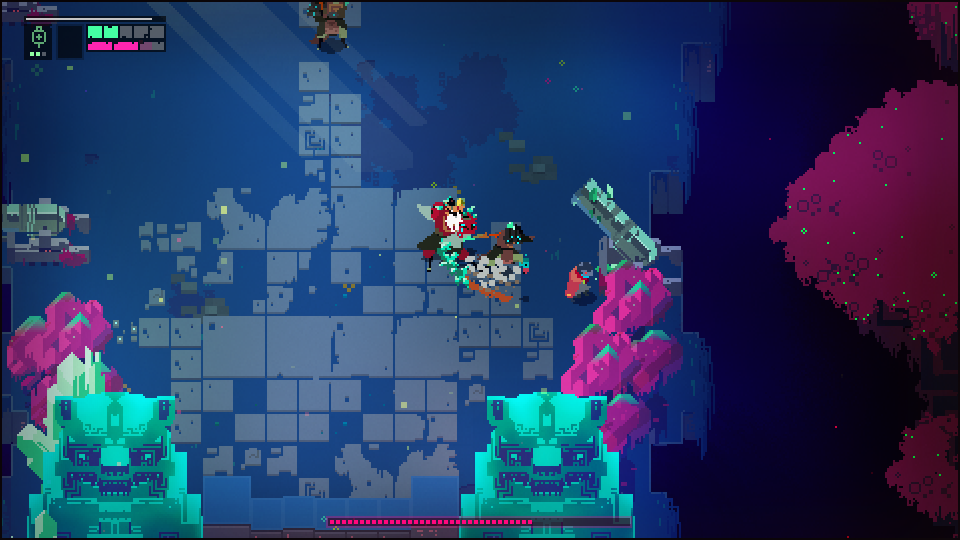hanged_man: (412, 185, 494, 295)
player: (562, 257, 596, 303)
